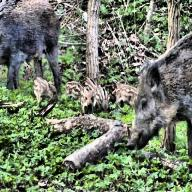boar: (123, 36, 192, 159), (0, 2, 71, 78)
